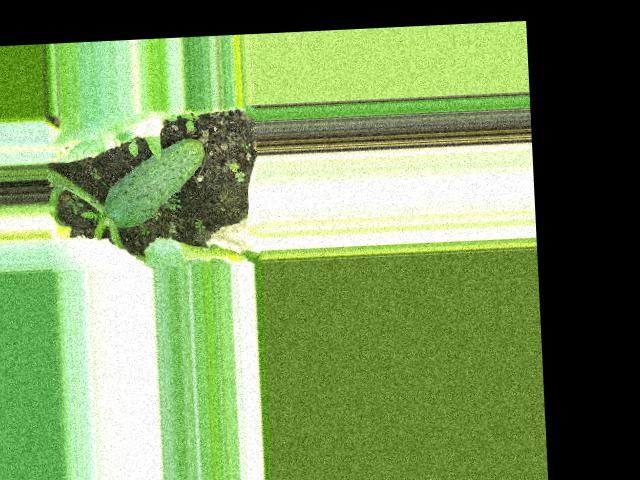cucumber: (99, 137, 207, 229)
